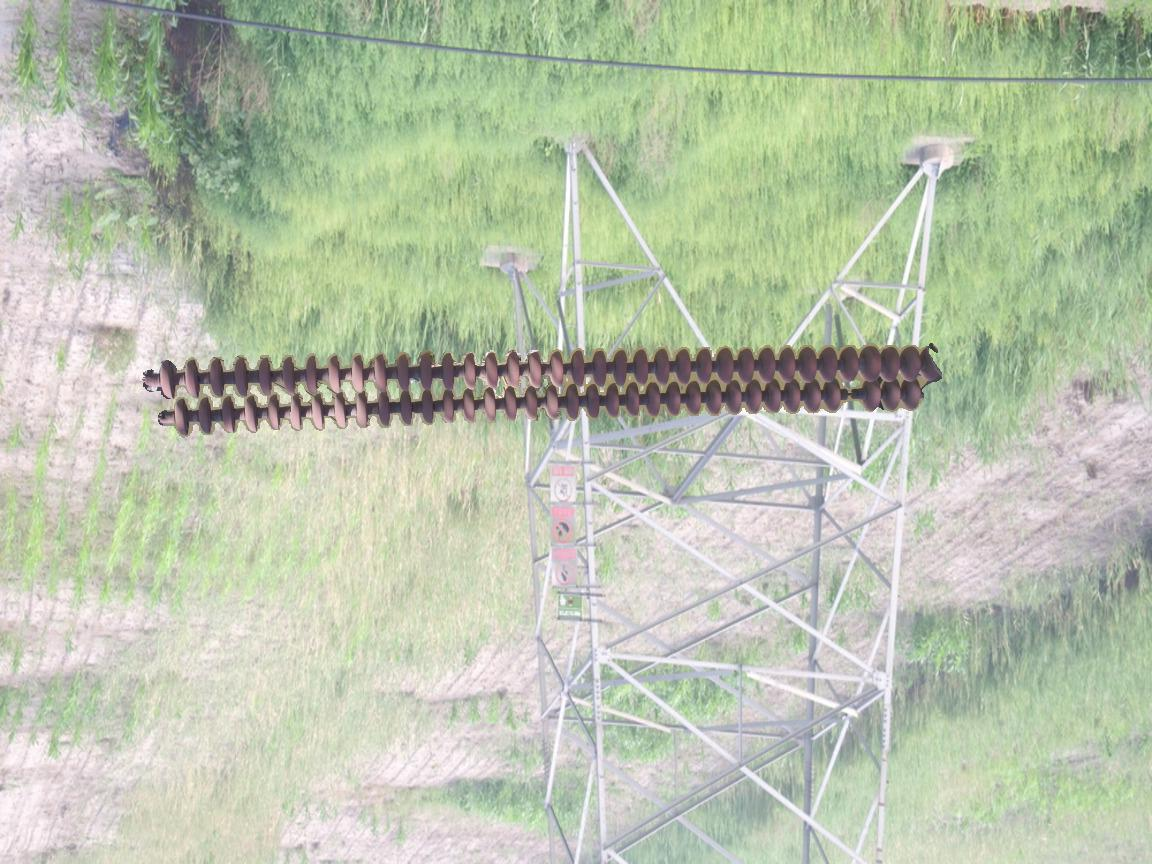insulator: (144, 336, 943, 441)
insulator_stringdrop: (819, 377, 883, 415)
